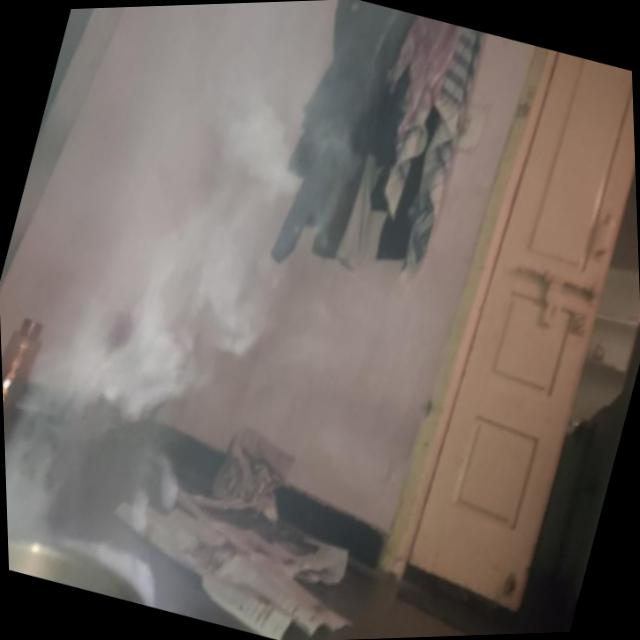smoke: (11, 142, 308, 532)
